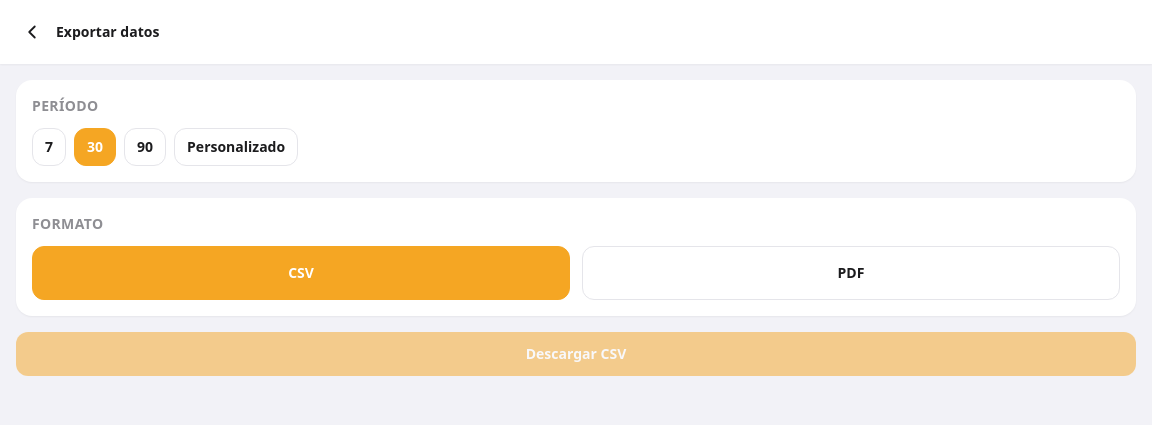
Test: ExportRoute presets and summary › counts progress-only days as sin registro
What coordinates should you click on to do the following:
click the button "7"
I would click on:
 (49, 147)
Its box is [32,128,66,166].
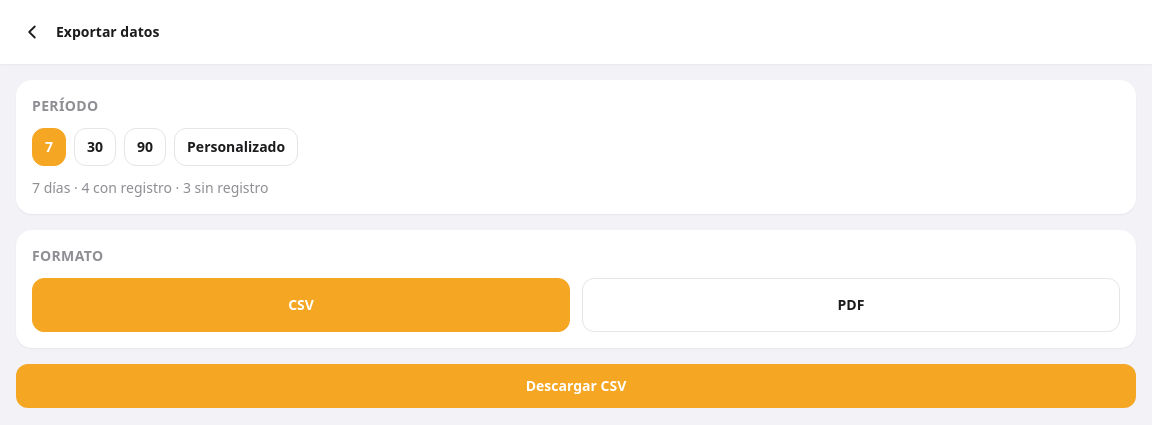
Expected: the text "7 días · 4 con registro · 3 sin registro" is shown, [32,178,269,197]
